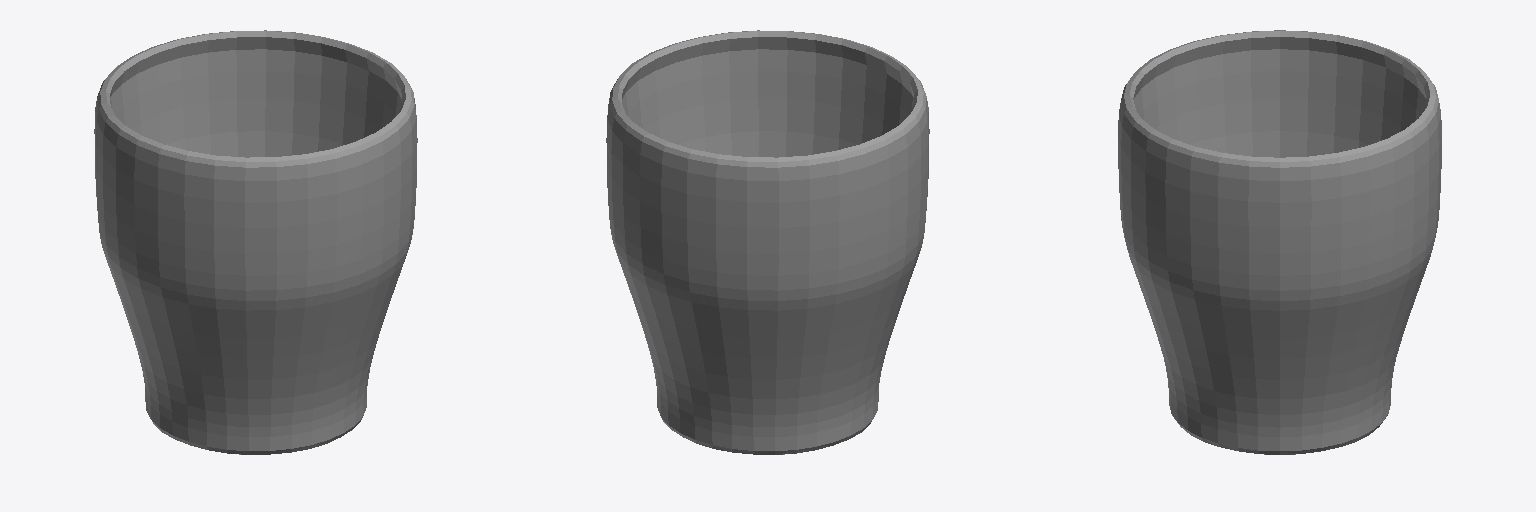
File: szklanka.obj
3 views of the same model, side by side, from view 1: azimuth 30°, elevation 25°; view 2: azimuth 150°, elevation 25°; view 3: azimuth 270°, elevation 25° (orthographic).
Visible parts, largest first — view 1: Cylinder.001_Cylinder.002; view 2: Cylinder.001_Cylinder.002; view 3: Cylinder.001_Cylinder.002.
Boxes of the visible parts, x1,y1,x2,y2 form: Cylinder.001_Cylinder.002: [94, 30, 417, 454]; Cylinder.001_Cylinder.002: [606, 30, 929, 454]; Cylinder.001_Cylinder.002: [1118, 30, 1441, 454].
Bounding box in the file's own units: 1.81 × 2 × 1.81.